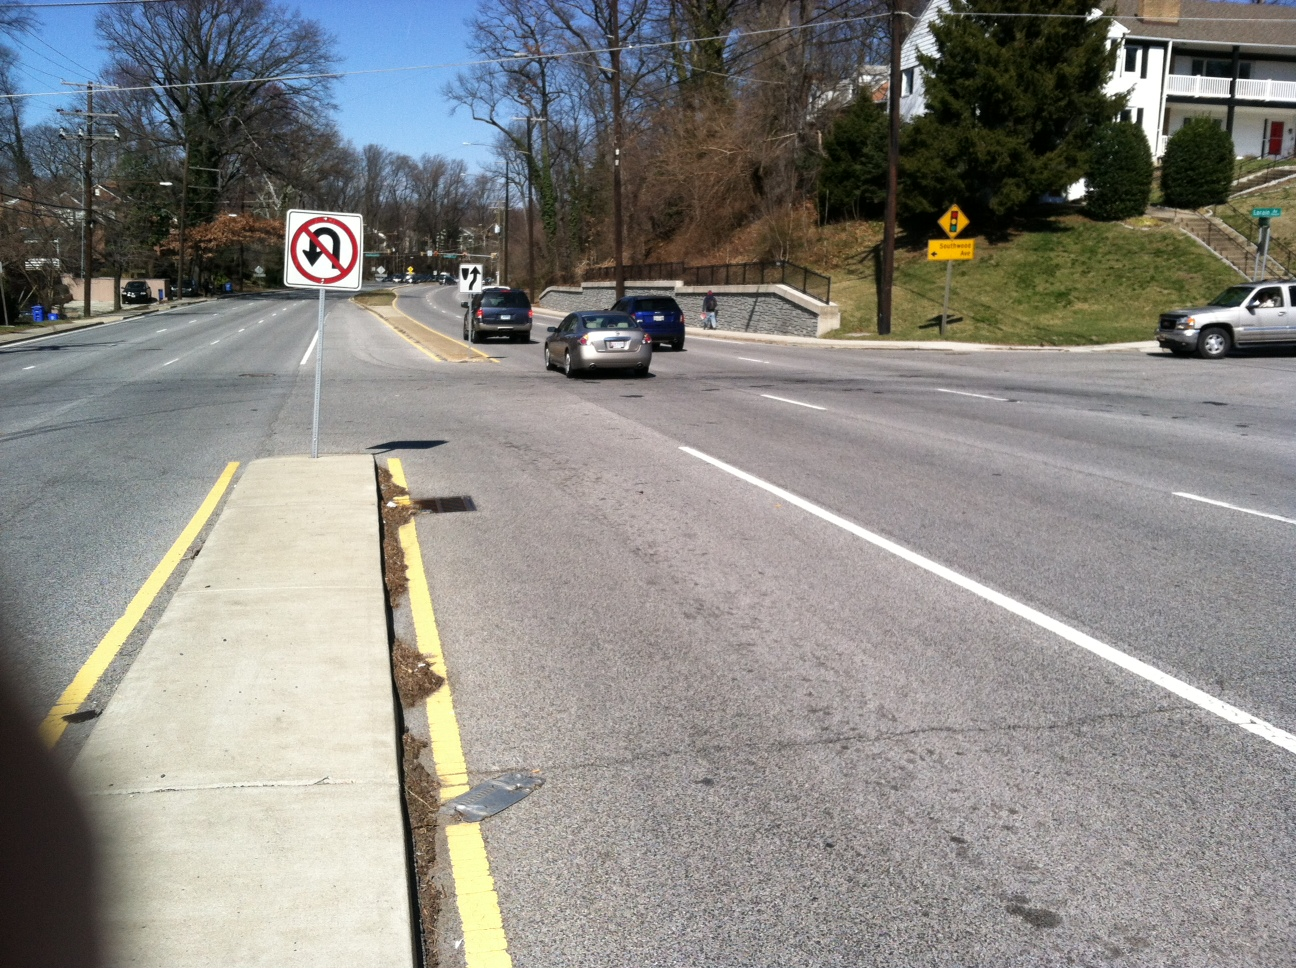No_u_turn: (290, 216, 358, 284)
